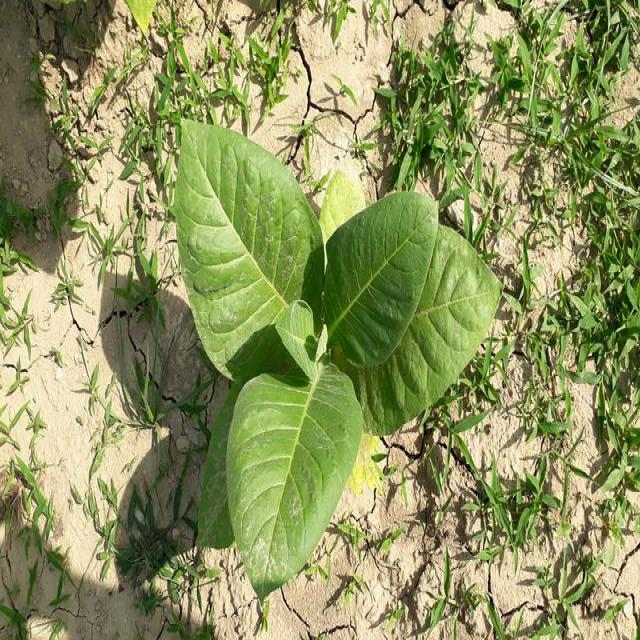crop: (172, 126, 496, 588)
